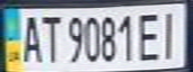0: (81, 12, 103, 64)
1: (115, 10, 139, 62)
8: (100, 11, 121, 63)
9: (63, 11, 84, 63)
A: (15, 11, 45, 63)
E: (136, 9, 163, 62)
I: (154, 7, 184, 61)
T: (36, 11, 63, 63)
